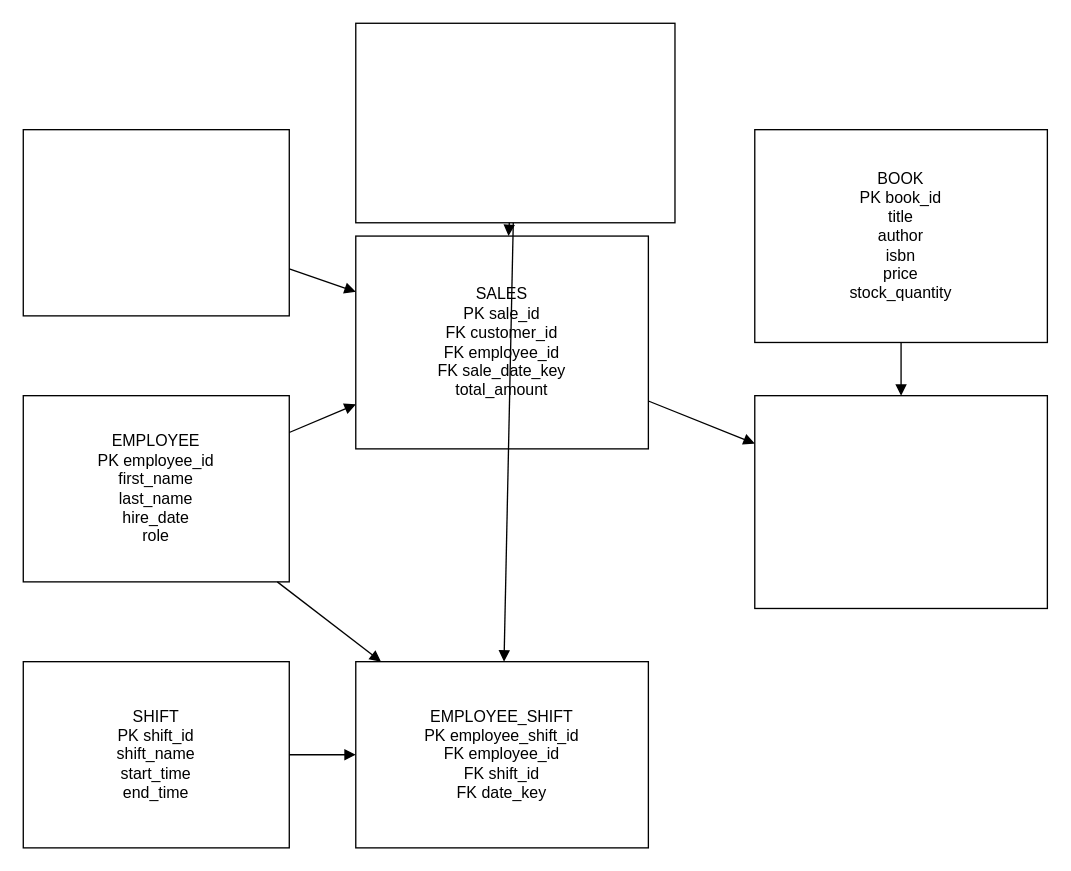
The diagram is 1071 pixels wide and 871 high, and some of its shapes have lost their labels. The shapes that lost their labels are listed below. From the top down, each one's centre as x and y in pixels, then its label:
the point at 514,122: DATE_DIM PK date_key full_date day month year day_of_week is_weekend quarter
the point at 155,222: CUSTOMER PK customer_id first_name last_name email phone
the point at 900,501: SALES_ITEM PK sales_item_id FK sale_id FK book_id quantity unit_price
